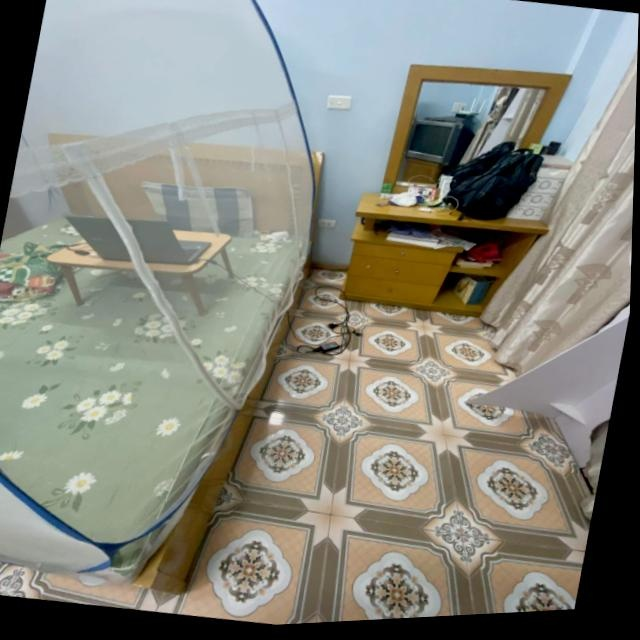outlet: (311, 216, 340, 235)
